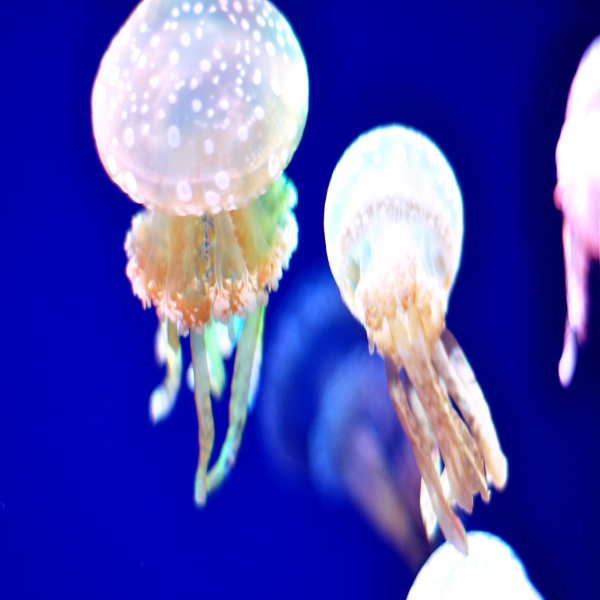Jellyfish: (87, 0, 308, 505), (323, 123, 510, 553)
